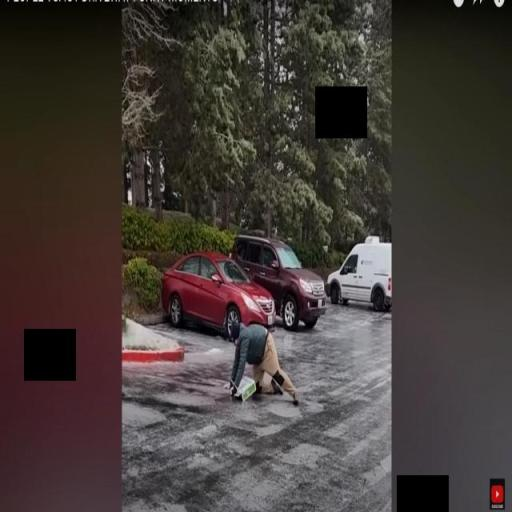Fall: (224, 316, 302, 406)
